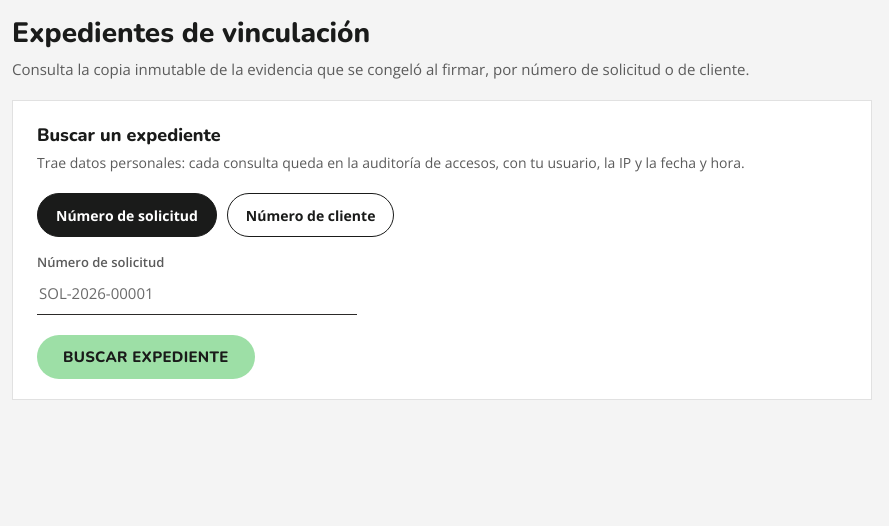
Test: DossiersView › un cliente que no ha firmado no tiene expedientes
The width and height of the screenshot is (889, 526).
Click the button "Número de cliente".
click(311, 215)  # box [227,193,394,237]
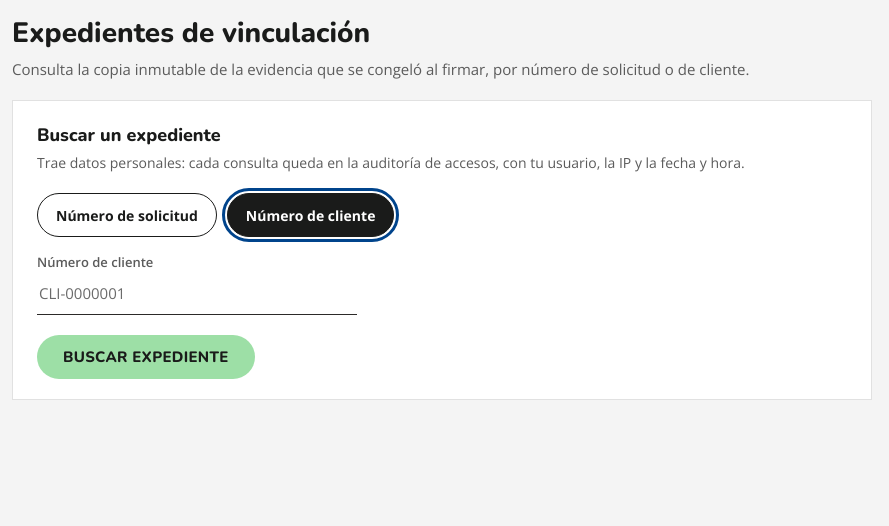
Type "CLI-0000009" into the field labelled "Número de cliente".
click(197, 293); type("CLI-0000009")  # box [37,271,357,315]
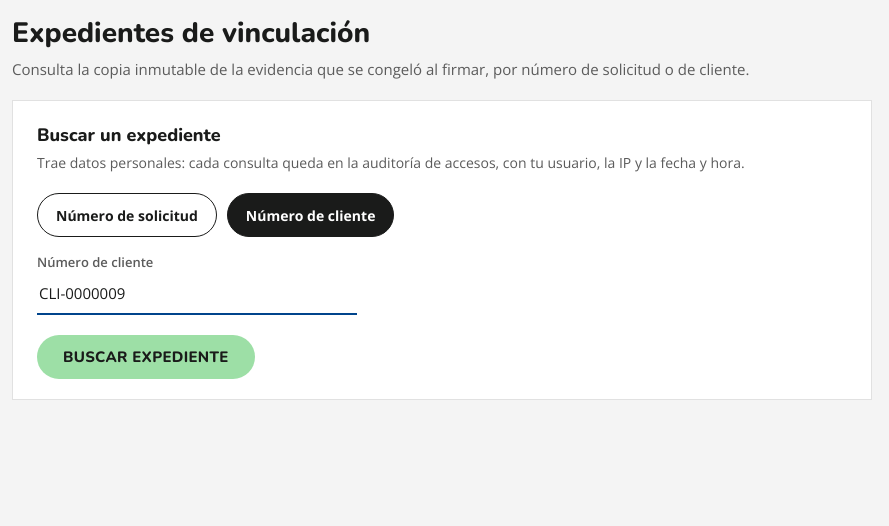
Click the button "Buscar expediente".
click(146, 357)  # box [37,335,255,379]
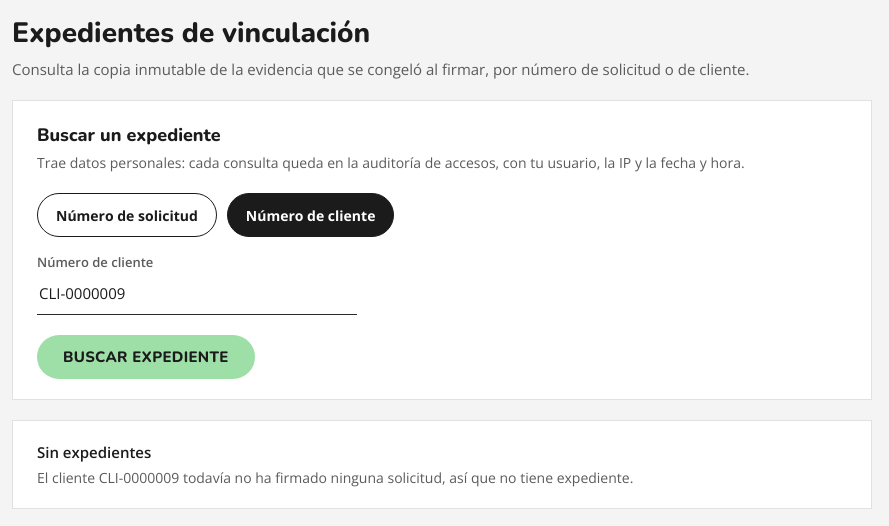
Expected: the text "Sin expedientes" is shown, [37,442,151,462]
Expected: the text "CLI-0000009 todavía no ha firmado" is shown, [37,468,633,486]
